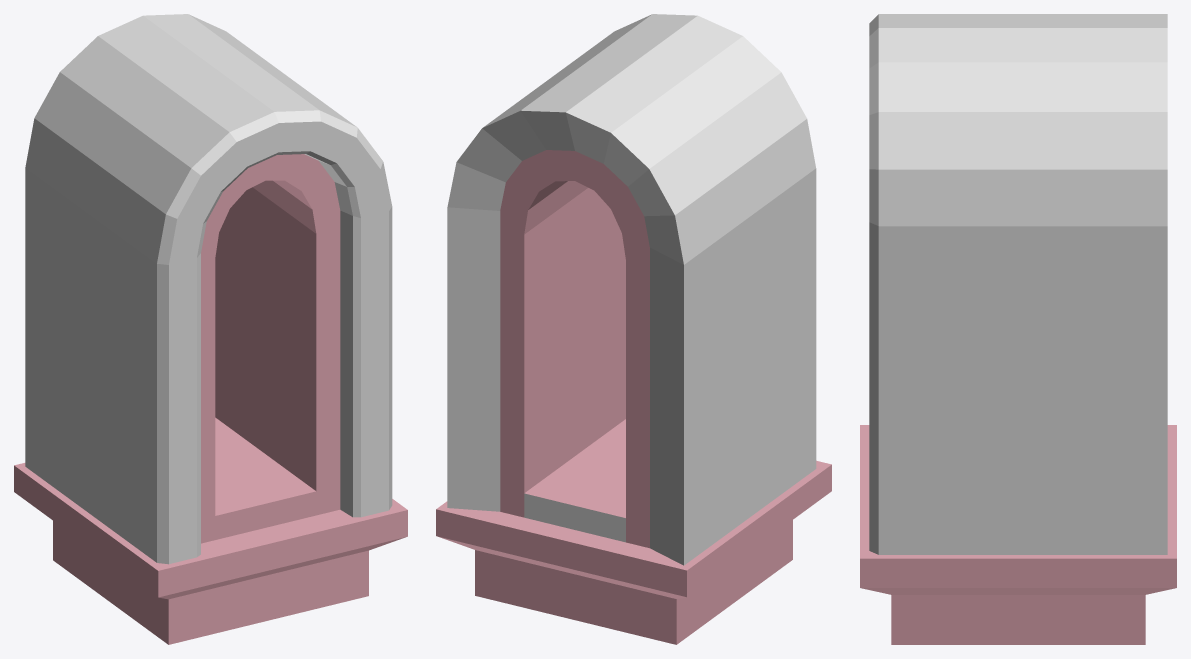
File: fbx_Window_01.fbx
The picture shows the model from 3 angles, left to right: view 1: azimuth 30°, elevation 25°; view 2: azimuth 150°, elevation 25°; view 3: azimuth 270°, elevation 25°; orthographic projection. The views are drawn at different scales.
Parts seen in each view (by area): view 1: Cube.004; view 2: Cube.004; view 3: Cube.004.
Part boxes in pixels (x1,y1,x2,y2): Cube.004: (14, 14, 407, 644); Cube.004: (436, 14, 831, 644); Cube.004: (860, 14, 1176, 644).
Size of the model in its own units: 249 by 489 by 249.
